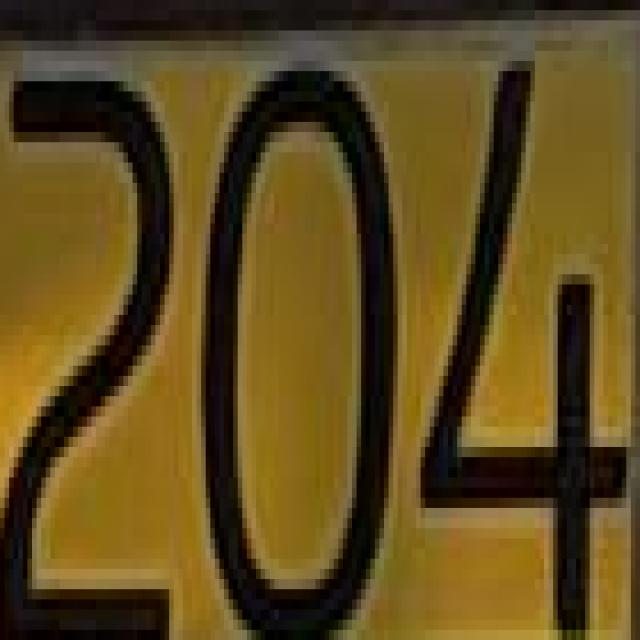character: (416, 40, 631, 640), (196, 51, 398, 640), (0, 62, 179, 640)
